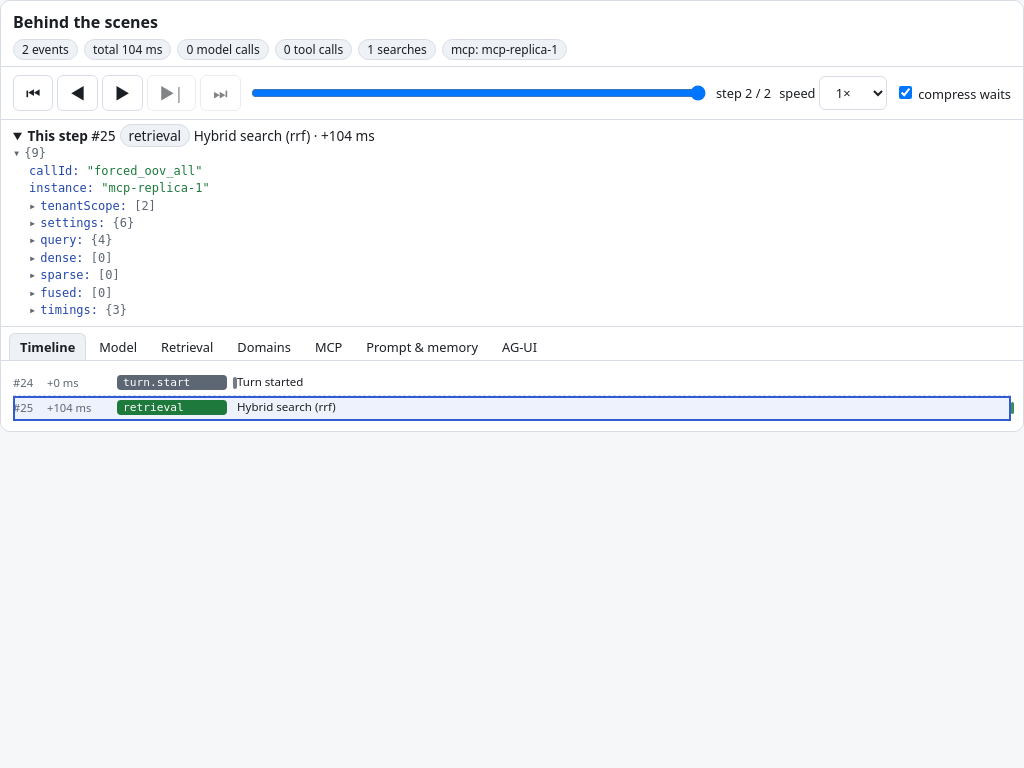
Test: MonitorPanel › retrieval tab renders a query whose every term is out of vocabulary
The width and height of the screenshot is (1024, 768).
Step 1. Click the tab "Retrieval" → (187, 346), box top-left (150, 333), bottom-right (224, 360)
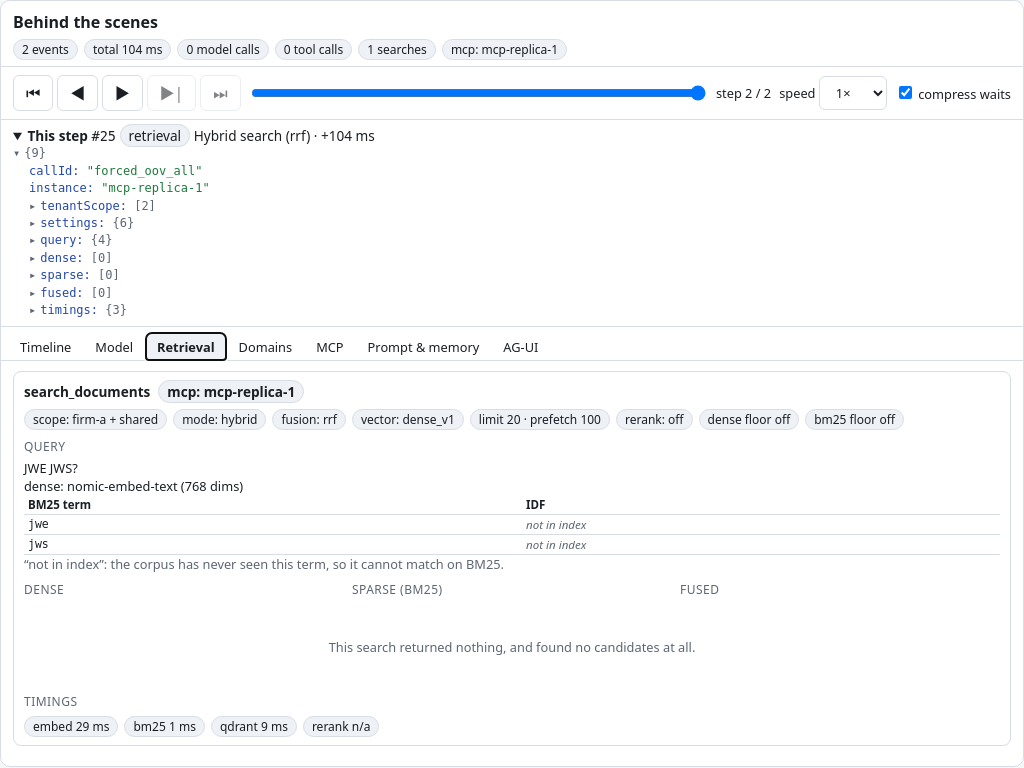
expect the row "jwe not in index" is shown: met, box top-left (24, 514), bottom-right (1000, 534)
expect the row "jws not in index" is shown: met, box top-left (24, 534), bottom-right (1000, 554)
expect the element "search" shows "it cannot match on BM25": met, box top-left (24, 555), bottom-right (504, 573)
